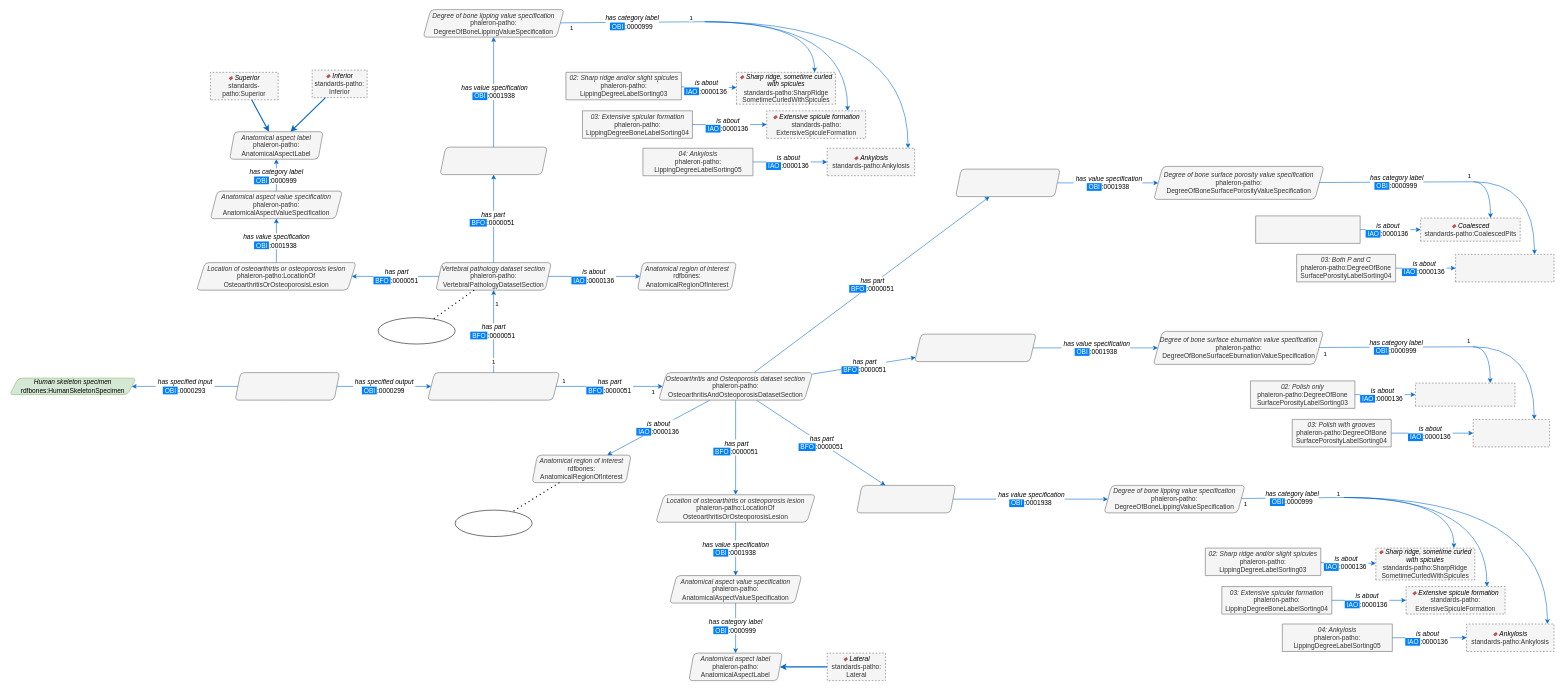
The diagram is 1564 pixels wide and 690 high, and some of its shapes have lost their labels. The shapes that lost their labels are listed below. From the top down, each one's box as (x1, y1, x2, y2) in pixels, then its label:
(439, 147, 547, 175): Degree of osteophyte formation phaleron-patho: DegreeOfOsteophyteFormation
(955, 169, 1060, 197): Degree of bone surface porosity phaleron-patho: DegreeOfBoneSurfacePorosity
(1255, 215, 1360, 243): 02: Coalesced phaleron-patho:DegreeOfBone SurfacePorosityLabelSorting03
(1455, 254, 1554, 282): ⬥ Both discrete and coalesced standards-patho: BothDiscreteAndCoalescedPits
(378, 317, 455, 344): for Vertebral Body
(914, 334, 1036, 362): Degree of bone surface eburnation phaleron-patho: DegreeOfBoneSurfaceEburnation
(235, 372, 340, 400): PaleopathologyInvestigation
(427, 372, 560, 400): PaleopathologyInvestigation Dataset
(1415, 383, 1515, 406): ⬥ Polish only standards-patho:PolishOnly
(1473, 419, 1550, 447): ⬥ Polish with grooves standards-patho: PolishWithGrooves
(856, 485, 956, 513): Degree of bone lipping phaleron-patho: DegreeOfBoneLipping
(455, 510, 532, 537): for Neural Arch
